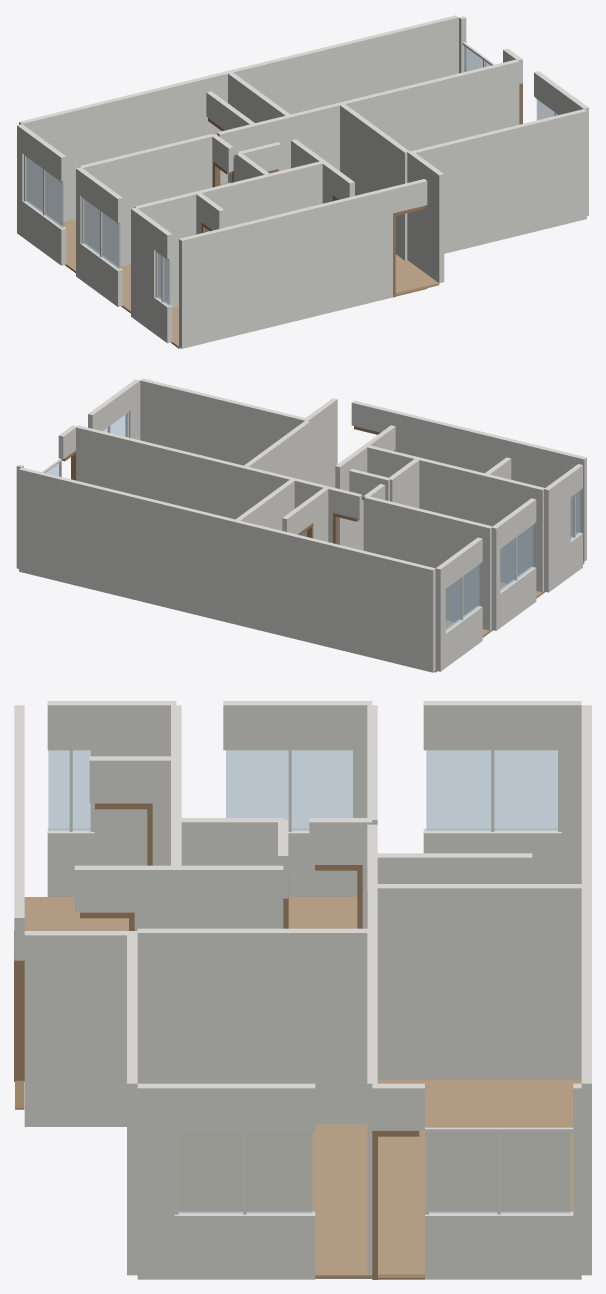
File: high_quality_architectural_812.glb
The picture shows the model from 3 angles, top to bottom: view 1: azimuth 30°, elevation 25°; view 2: azimuth 150°, elevation 25°; view 3: azimuth 270°, elevation 25°; orthographic projection. The views are drawn at different scales.
Parts seen in each view (by area): view 1: Wall_7_solid, Wall_26_solid, Wall_1_solid, Wall_17_solid, Wall_3_solid, Wall_19_solid, Wall_29_solid, Wall_5_solid, Wall_15_solid, Wall_28_solid, Wall_23_solid, Wall_8_solid (+30 smaller); view 2: Wall_1_solid, Wall_17_solid, Wall_3_solid, Wall_7_solid, Wall_19_solid, Wall_26_solid, Wall_23_solid, Wall_27_solid, Wall_22_solid, Wall_28_solid, Wall_29_solid, Wall_15_solid (+26 smaller); view 3: Wall_0_solid, Wall_5_solid, Floor_0_kitchen, Wall_15_solid, Floor_1_living_room, Window_0, Window_9, Window_10, Wall_2_sill, Wall_6_sill, Window_11, Wall_6_solid (+34 smaller).
Boxes of the visible parts, <box> form: Wall_7_solid: <box>407,109,586,261</box>; Wall_26_solid: <box>240,193,369,333</box>; Wall_1_solid: <box>228,15,458,114</box>; Wall_17_solid: <box>19,79,194,222</box>; Wall_3_solid: <box>340,59,519,151</box>; Wall_19_solid: <box>79,134,212,266</box>; Wall_29_solid: <box>179,224,243,348</box>; Wall_5_solid: <box>339,103,409,260</box>; Wall_15_solid: <box>408,151,444,283</box>; Wall_28_solid: <box>131,207,159,333</box>; Wall_23_solid: <box>134,191,198,307</box>; Wall_8_solid: <box>366,187,392,302</box>; Wall_1_solid: <box>19,467,237,624</box>; Wall_17_solid: <box>268,528,435,672</box>; Wall_3_solid: <box>76,425,245,519</box>; Wall_7_solid: <box>140,378,309,465</box>; Wall_19_solid: <box>364,496,492,630</box>; Wall_26_solid: <box>406,414,528,483</box>; Wall_23_solid: <box>484,474,544,592</box>; Wall_27_solid: <box>235,520,270,632</box>; Wall_22_solid: <box>417,457,484,523</box>; Wall_28_solid: <box>544,473,570,592</box>; Wall_29_solid: <box>526,443,586,561</box>; Wall_15_solid: <box>302,398,337,487</box>; Wall_0_solid: <box>377,884,581,1079</box>; Wall_5_solid: <box>137,928,367,1124</box>; Floor_0_kitchen: <box>377,1080,581,1274</box>; Wall_15_solid: <box>24,931,136,1126</box>; Floor_1_living_room: <box>178,1124,372,1278</box>; Window_0: <box>429,1133,570,1213</box>; Window_9: <box>178,1133,312,1213</box>; Window_10: <box>426,750,557,830</box>; Wall_2_sill: <box>425,1211,573,1279</box>; Wall_6_sill: <box>174,1211,315,1279</box>; Window_11: <box>226,750,352,830</box>; Wall_6_solid: <box>137,1083,174,1279</box>.
Size of the model in its own units: 11.7 by 2.75 by 7.38.
